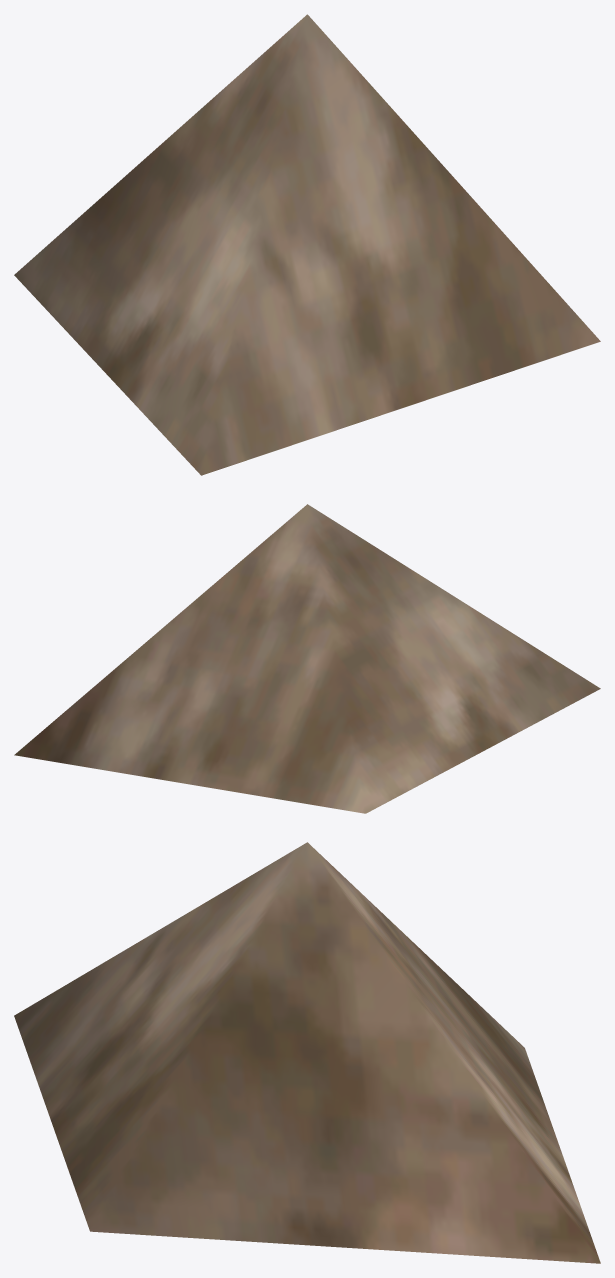
File: OVERHILL_A_01_PLANE03.fbx
3 renders of one model, top to bottom at view 1: azimuth 30°, elevation 25°; view 2: azimuth 150°, elevation 25°; view 3: azimuth 270°, elevation 25°, orthographic. The views are drawn at different scales.
Parts seen in each view (by area): view 1: OVERHILL_A_01_PLANE03; view 2: OVERHILL_A_01_PLANE03; view 3: OVERHILL_A_01_PLANE03.
Part boxes in pixels (<box>): OVERHILL_A_01_PLANE03: <box>14,14,600,475</box>; OVERHILL_A_01_PLANE03: <box>14,504,600,813</box>; OVERHILL_A_01_PLANE03: <box>14,842,600,1263</box>.
Bounding box in the file's own units: 1126 × 630 × 1126.
Materials: 1 (1 with a texture image).
